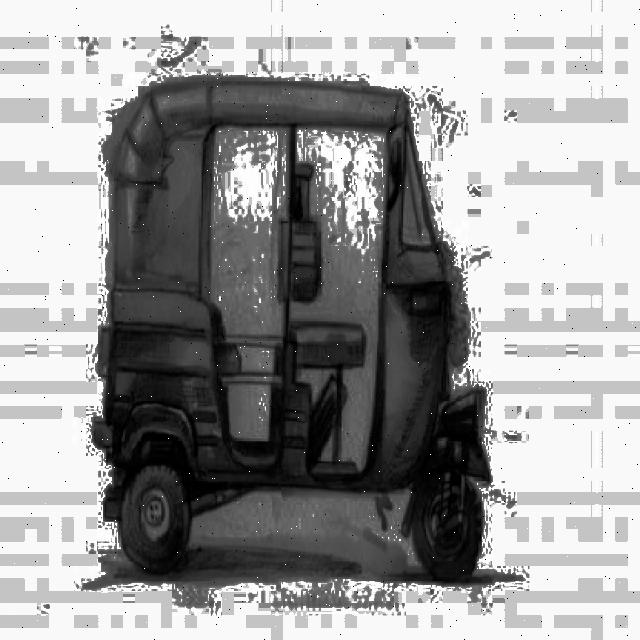Auto-Rickshaw: (97, 75, 494, 587)
